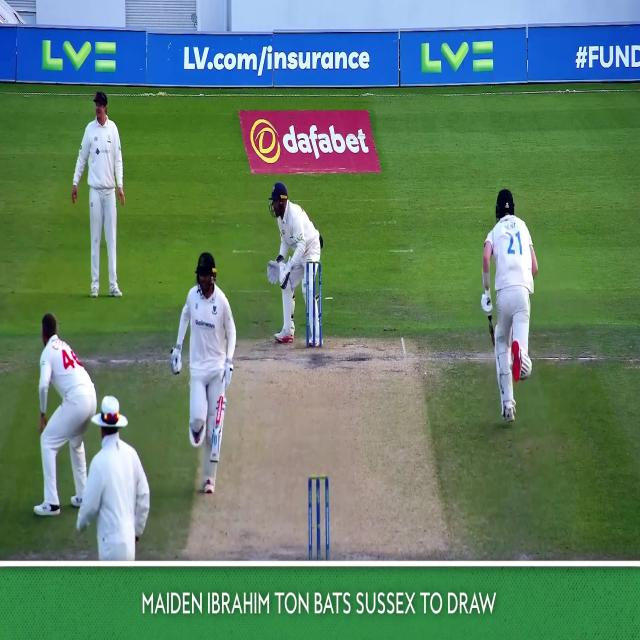stump: (308, 476, 329, 561), (306, 260, 322, 348)
